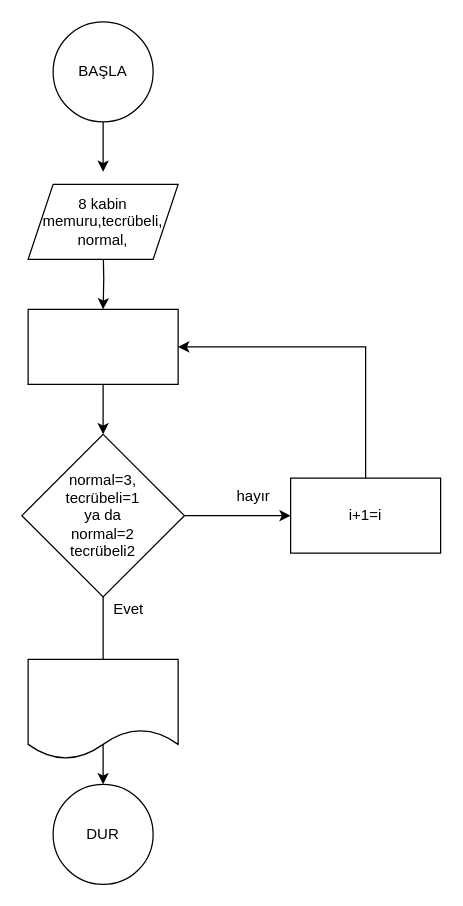
This 463x906 diagram has some shape labels left out. Each missing label, with the centre of its shape:
4 kişilik grup oluştur.: the point at 102,346
sonuc=i: the point at 102,708
